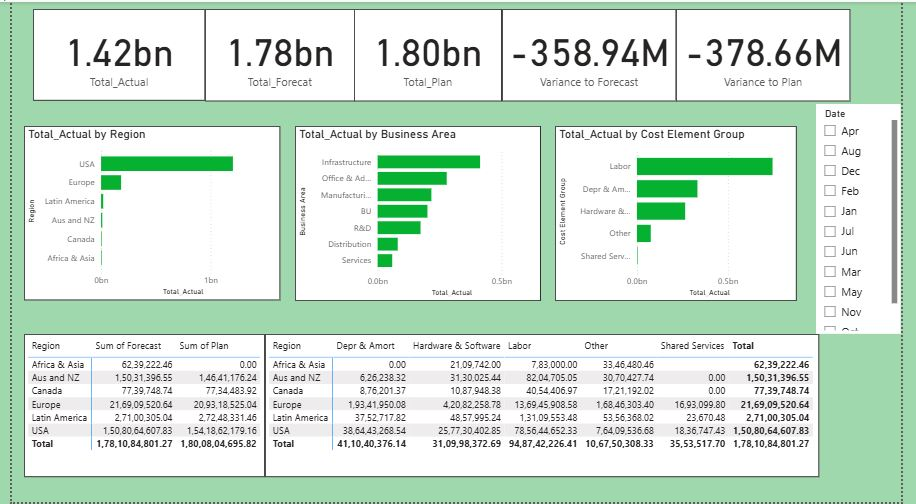

The page's visual inventory and layout, read from the dashboard file:
{"tool":"powerbi","page":{"name":"Cost Distribution","canvas":[1280,720],"ordinal":0},"visuals":[{"type":"barChart","fields":{"Y":["Data.Total_Actual"],"Category":["Data.Region"]},"box":[17.3,178.6,368.6,250.6],"z":0},{"type":"barChart","fields":{"Y":["Data.Total_Actual"],"Category":["Data.Business Area"]},"box":[407.5,178.6,354.2,252],"z":1000},{"type":"barChart","fields":{"Category":["Data.Cost Element Group"],"Y":["Data.Total_Actual"]},"box":[781.9,178.6,348.5,252],"z":2000},{"type":"pivotTable","fields":{"Values":["Sum(Data.Forecast)","Sum(Data.Plan)"],"Rows":["Data.Region"]},"box":[17.3,478.1,347,205.9],"z":3000},{"type":"pivotTable","fields":{"Values":["Sum(Data.Forecast)"],"Rows":["Data.Region"],"Columns":["Data.Cost Element Group"]},"box":[364.3,478.1,797.8,205.9],"z":4000},{"type":"card","fields":{"Values":["Data.Total_Actual"]},"box":[30.2,10.1,247.7,132.5],"z":5000},{"type":"card","fields":{"Values":["Data.Total_Forecat"]},"box":[277.6,10.3,215.5,132.9],"z":6000},{"type":"card","fields":{"Values":["Data.Total_Plan"]},"box":[493.1,10.3,212.6,132.9],"z":7000},{"type":"card","fields":{"Values":["Data.Variance to Forecast"]},"box":[705.7,10.3,251,132.9],"z":8000},{"type":"card","fields":{"Values":["Data.Variance to Plan"]},"box":[956.7,10.3,251,132.9],"z":9000},{"type":"slicer","fields":{"Values":["Data.Date"]},"box":[1157.8,146.9,122.4,331.2],"z":10000}]}

Visuals, with their boxes in screenshot pixels (x1, y1, x2, y2), scaled from the page's 1280x720 canvas onto the 916x504 screenshot:
barChart - Data.Total_Actual x Data.Region: x1=12 y1=125 x2=276 y2=300
barChart - Data.Total_Actual x Data.Business Area: x1=292 y1=125 x2=545 y2=301
barChart - Data.Cost Element Group x Data.Total_Actual: x1=560 y1=125 x2=809 y2=301
pivotTable - Sum(Data.Forecast) x Sum(Data.Plan): x1=12 y1=335 x2=261 y2=479
pivotTable - Sum(Data.Forecast) x Data.Region: x1=261 y1=335 x2=832 y2=479
card - Data.Total_Actual: x1=22 y1=7 x2=199 y2=100
card - Data.Total_Forecat: x1=199 y1=7 x2=353 y2=100
card - Data.Total_Plan: x1=353 y1=7 x2=505 y2=100
card - Data.Variance to Forecast: x1=505 y1=7 x2=685 y2=100
card - Data.Variance to Plan: x1=685 y1=7 x2=864 y2=100
slicer - Data.Date: x1=829 y1=103 x2=915 y2=335
